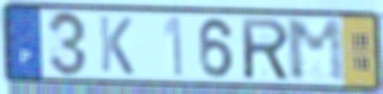1: (162, 14, 185, 80)
3: (45, 9, 89, 79)
6: (197, 16, 236, 80)
K: (97, 14, 137, 78)
M: (283, 18, 350, 84)
R: (239, 17, 292, 83)
